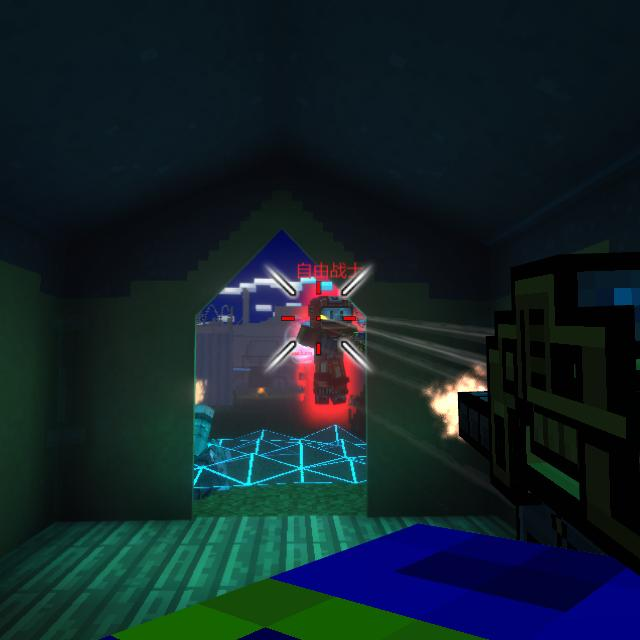Enemy: (296, 296, 357, 405)
